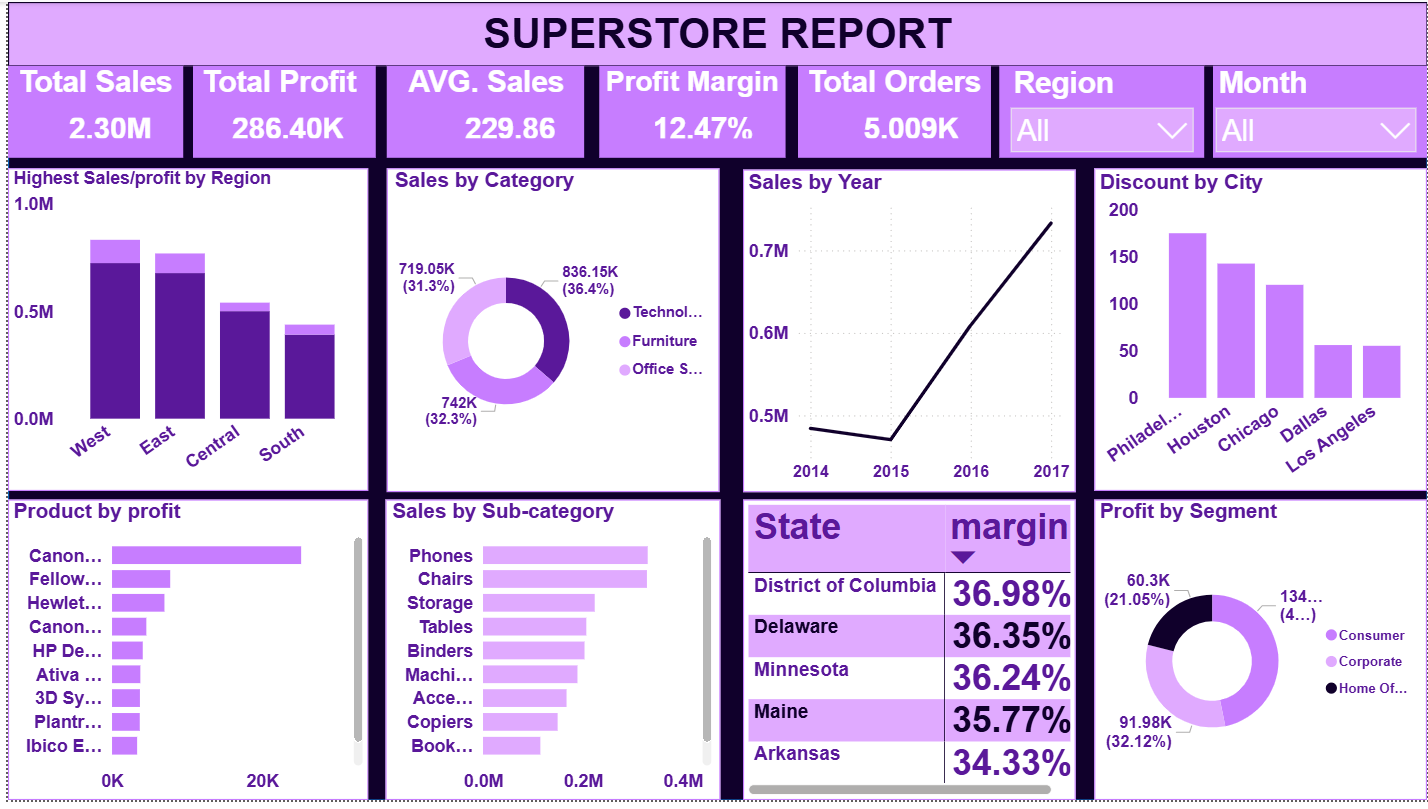

The dashboard page shown, as its layout file describes it:
{"tool":"powerbi","page":{"name":"Superstore","canvas":[1280,720],"ordinal":0},"visuals":[{"type":"shape","box":[0,0,1280,720],"z":0},{"type":"shape","box":[0,0,1280,58],"z":1000},{"type":"shape","box":[0,58,158,83],"z":2000},{"type":"shape","box":[167,58,165,83],"z":3000},{"type":"shape","box":[342,58,178,83],"z":4000},{"type":"shape","box":[533,58,168,83],"z":5000},{"type":"shape","box":[712,58,174,83],"z":6000},{"type":"shape","box":[894,58,185,83],"z":7000},{"type":"shape","box":[1086,58,194,83],"z":8000},{"type":"shape","box":[0,150,325,291],"z":9000},{"type":"shape","box":[0,449,325,271],"z":10000},{"type":"shape","box":[342,150,300,292],"z":11000},{"type":"shape","box":[340,449,302,271],"z":12000},{"type":"shape","box":[663,151,300,291],"z":13000},{"type":"shape","box":[663,449,300,271],"z":14000},{"type":"shape","box":[980,150,300,291],"z":15000},{"type":"shape","box":[980,449,300,271],"z":16000},{"type":"columnChart","title":"Highest Sales/profit by Region","fields":{"Category":["Sample___Superstore.Region"],"Y":["Sum(Sample___Superstore.Sales)","Sum(Sample___Superstore.Profit)"]},"box":[0,150,325,292],"z":17000},{"type":"clusteredBarChart","title":"Product by profit","fields":{"Category":["Sample___Superstore.Product Name"],"Y":["Sum(Sample___Superstore.Profit)"]},"box":[0,449,325,271],"z":18000},{"type":"donutChart","title":"Sales  by Category","fields":{"Category":["Sample___Superstore.Category"],"Y":["Sum(Sample___Superstore.Sales)"]},"box":[344,150,298,291],"z":19000},{"type":"clusteredBarChart","title":"Sales by Sub-category","fields":{"Category":["Sample___Superstore.Sub-Category"],"Y":["Sum(Sample___Superstore.Sales)"]},"box":[342,449,298,271],"z":20000},{"type":"lineChart","title":"Sales by Year","fields":{"Category":["Sample___Superstore.Order Date.Variation.Date Hierarchy.Year"],"Y":["Sum(Sample___Superstore.Sales)"]},"box":[663,152,300,289],"z":21000},{"type":"donutChart","title":"Profit by Segment","fields":{"Category":["Sample___Superstore.Segment"],"Y":["Sum(Sample___Superstore.Profit)"]},"box":[980,449,300,271],"z":22000},{"type":"pivotTable","fields":{"Rows":["Sample___Superstore.State"],"Values":["Sample___Superstore.margin"]},"box":[663,449,300,271],"z":23000},{"type":"cardVisual","title":"Total Sales","fields":{"Data":["Sum(Sample___Superstore.Sales)"]},"box":[0,58,158,83],"z":24000},{"type":"cardVisual","title":"Total Profit","fields":{"Data":["Sum(Sample___Superstore.Profit)"]},"box":[158,58,174,83],"z":25000},{"type":"cardVisual","title":"AVG. Sales","fields":{"Data":["Avg(Sample___Superstore.Sales)"]},"box":[340,58,182,83],"z":26000},{"type":"cardVisual","title":"Total Orders","fields":{"Data":["Count(Sample___Superstore.Order ID)"]},"box":[712,58,174,83],"z":27000},{"type":"cardVisual","title":"Profit Margin","fields":{"Data":["Sample___Superstore.margin"]},"box":[533,58,168,83],"z":28000},{"type":"textbox","box":[0,2,1280,56],"z":29000},{"type":"columnChart","title":"Discount by City","fields":{"Category":["Sample___Superstore.City"],"Y":["Sum(Sample___Superstore.Discount)"]},"box":[980,152,300,289],"z":30000},{"type":"slicer","fields":{"Values":["Sample___Superstore.Region"]},"box":[894.2,53.5,184.9,87.2],"z":30001},{"type":"slicer","fields":{"Values":["Sample___Superstore.Order Date.Variation.Date Hierarchy.Month"]},"box":[1079.1,53.5,201.2,87.2],"z":30002}]}

Visuals, with their boxes in screenshot pixels (x1, y1, x2, y2), scaled from the page's 1280x720 canvas onto the 1428x809 screenshot:
shape: 0,0,1427,808
shape: 0,0,1427,65
shape: 0,65,176,158
shape: 186,65,370,158
shape: 382,65,580,158
shape: 595,65,782,158
shape: 794,65,988,158
shape: 997,65,1204,158
shape: 1212,65,1427,158
shape: 0,169,363,496
shape: 0,505,363,808
shape: 382,169,716,497
shape: 379,505,716,808
shape: 740,170,1074,497
shape: 740,505,1074,808
shape: 1093,169,1427,496
shape: 1093,505,1427,808
"Highest Sales/profit by Region" columnChart: 0,169,363,497
"Product by profit" clusteredBarChart: 0,505,363,808
"Sales  by Category" donutChart: 384,169,716,496
"Sales by Sub-category" clusteredBarChart: 382,505,714,808
"Sales by Year" lineChart: 740,171,1074,496
"Profit by Segment" donutChart: 1093,505,1427,808
pivotTable - Sample___Superstore.State x Sample___Superstore.margin: 740,505,1074,808
"Total Sales" cardVisual: 0,65,176,158
"Total Profit" cardVisual: 176,65,370,158
"AVG. Sales" cardVisual: 379,65,582,158
"Total Orders" cardVisual: 794,65,988,158
"Profit Margin" cardVisual: 595,65,782,158
textbox: 0,2,1427,65
"Discount by City" columnChart: 1093,171,1427,496
slicer - Sample___Superstore.Region: 998,60,1204,158
slicer - Sample___Superstore.Order Date.Variation.Date Hierarchy.Month: 1204,60,1427,158
